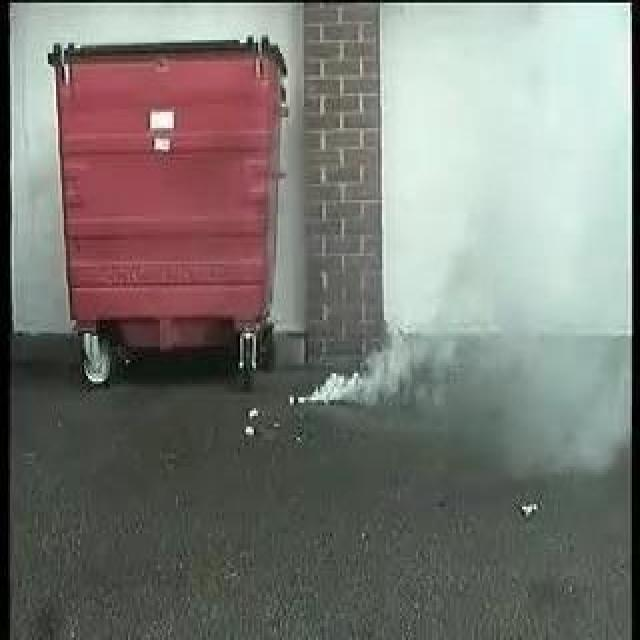Smoke: (309, 314, 461, 426)
